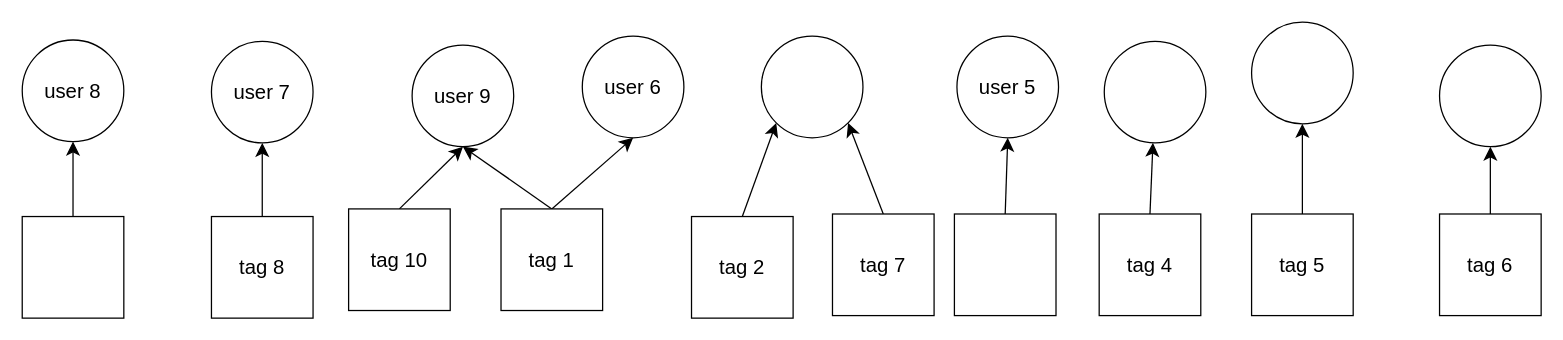
This 1563x340 diagram has some shape labels left out. Here are the shapes that lost their labels. From the top down, the centre of each, then its label:
pixel 811 86: user 2
pixel 1154 91: user 3
pixel 1301 72: user 1
pixel 1489 95: user 4
pixel 72 266: tag 9
pixel 1004 264: tag 3
